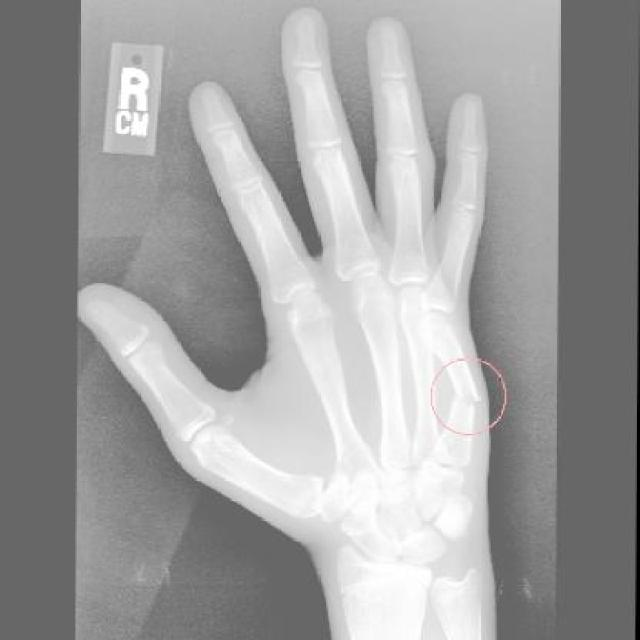Fracture: (444, 377, 486, 413)
